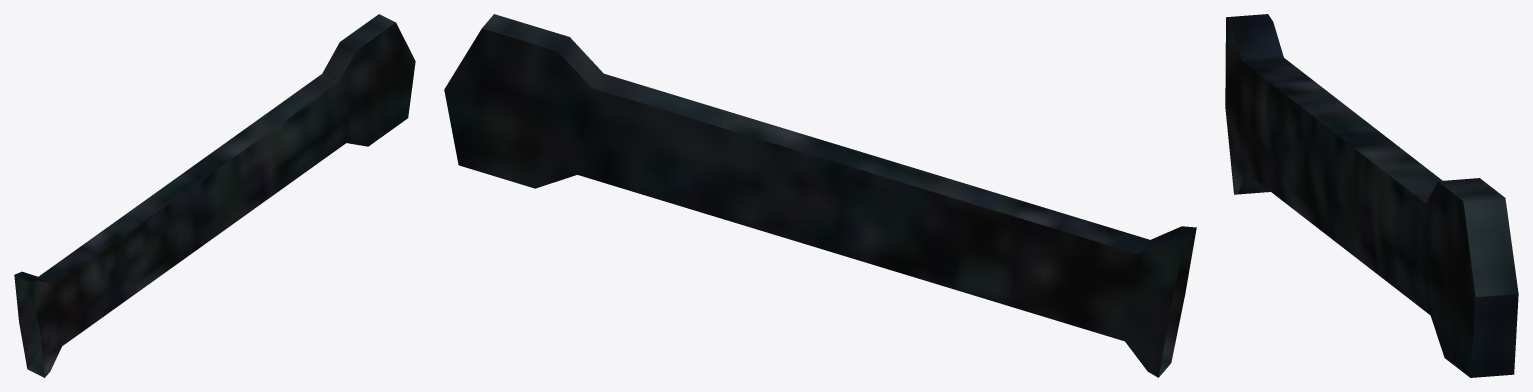
The model's file is BarraIzqCorta.obj.
The picture shows the model from 3 angles, left to right: view 1: azimuth 30°, elevation 25°; view 2: azimuth 150°, elevation 25°; view 3: azimuth 270°, elevation 25°; orthographic projection. The views are drawn at different scales.
Visible parts, largest first — view 1: BarraDerCorta; view 2: BarraDerCorta; view 3: BarraDerCorta.
Boxes of the visible parts, x1,y1,x2,y2 form: BarraDerCorta: (14, 14, 415, 377); BarraDerCorta: (444, 14, 1196, 377); BarraDerCorta: (1225, 14, 1518, 377).
Bounding box in the file's own units: 0.3943 × 0.1635 × 0.1315.
1 material, 1 textured.
